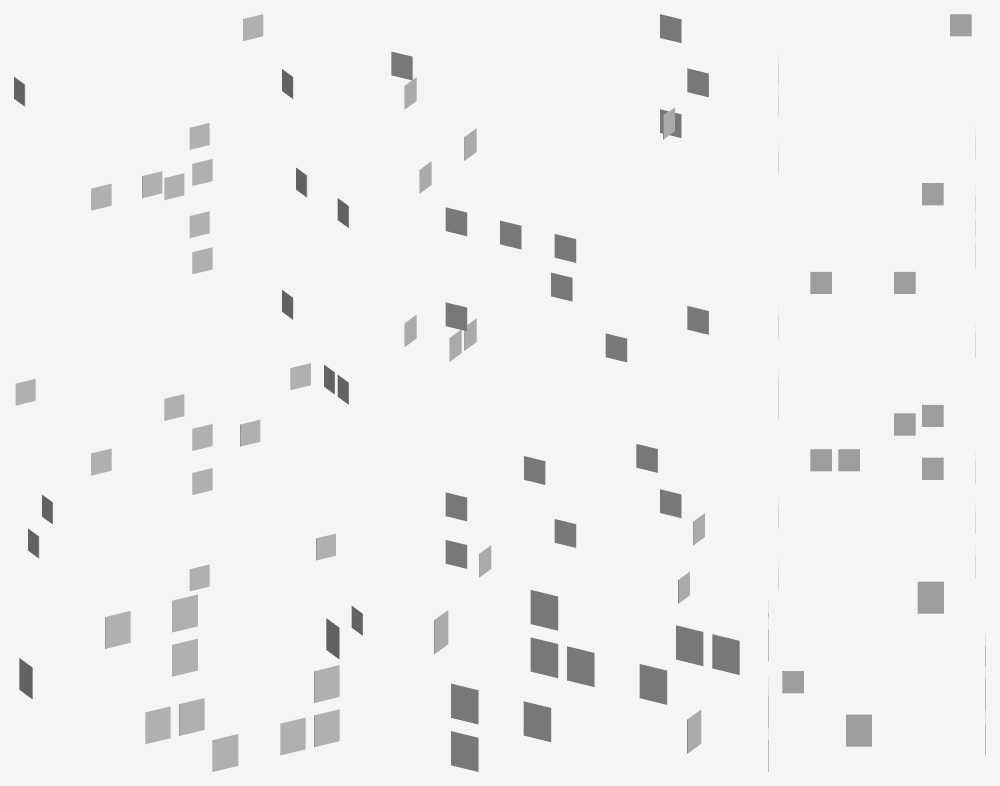
The model's file is env_city_office_lit.fbx.
3 views of the same model, side by side, from view 1: azimuth 30°, elevation 25°; view 2: azimuth 150°, elevation 25°; view 3: azimuth 270°, elevation 25° (orthographic). The views are drawn at different scales.
Visible parts, largest first — view 1: env_city_office_lit; view 2: env_city_office_lit; view 3: env_city_office_lit.
Part boxes in pixels (x1,y1,x2,y2): env_city_office_lit: [14, 14, 362, 771]; env_city_office_lit: [391, 14, 739, 771]; env_city_office_lit: [768, 14, 985, 771].
Bounding box in the file's own units: 6434 × 14610 × 4434.
